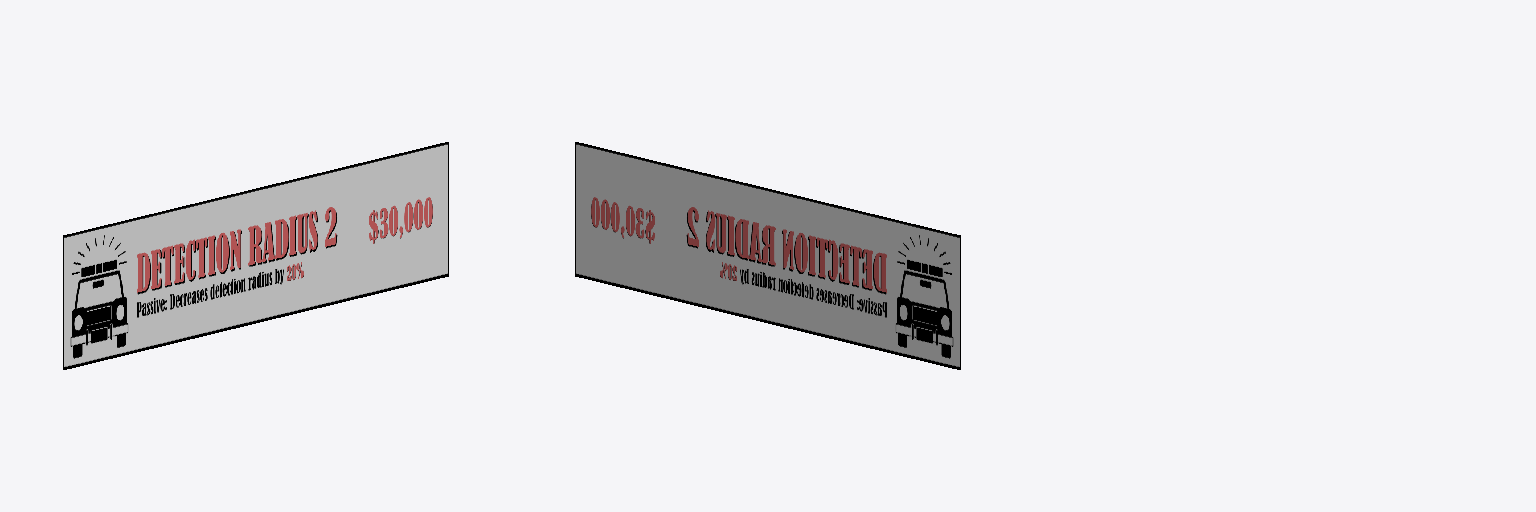
The picture shows the model from 3 angles: view 1: azimuth 30°, elevation 25°; view 2: azimuth 150°, elevation 25°; view 3: azimuth 270°, elevation 25°; orthographic projection.
Visible parts, largest first — view 1: Plane.004; view 2: Plane.004; view 3: none.
Boxes of the visible parts, <box> form: Plane.004: <box>63,142,448,369</box>; Plane.004: <box>575,142,960,369</box>.
Size of the model in its own units: 0.9 by 0.3 by 0.
Materials: 1 (1 with a texture image).